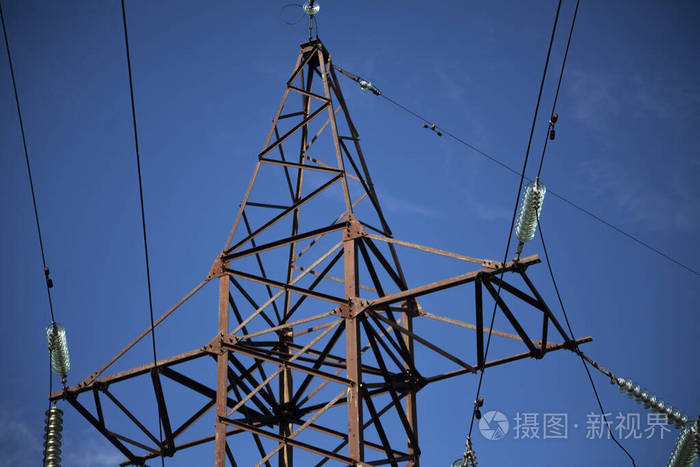insulator: (617, 376, 689, 425), (515, 182, 546, 240), (43, 409, 65, 466), (47, 324, 70, 374), (667, 428, 696, 467)
